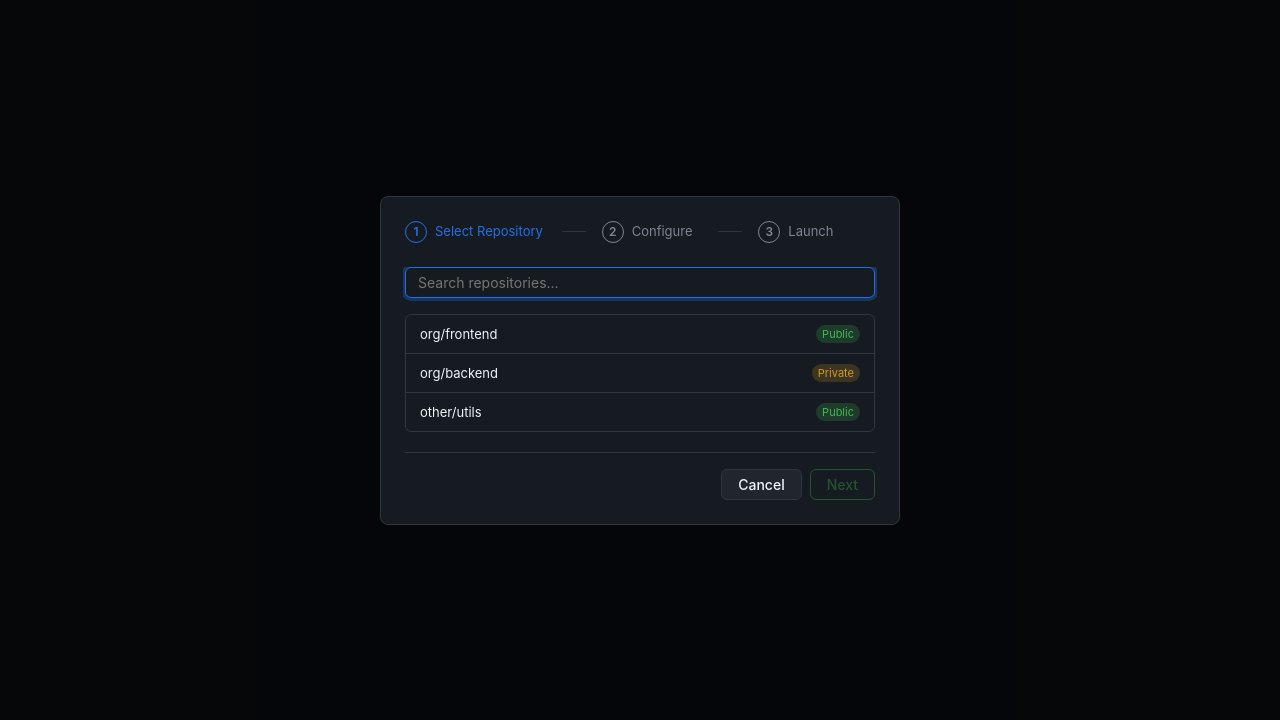
Test case: NewRunnerWizard › disables Container mode when Docker isn't available
The image size is (1280, 720).
Step 1. Click the text "org/frontend" → (459, 334), box [420,326,498,342]
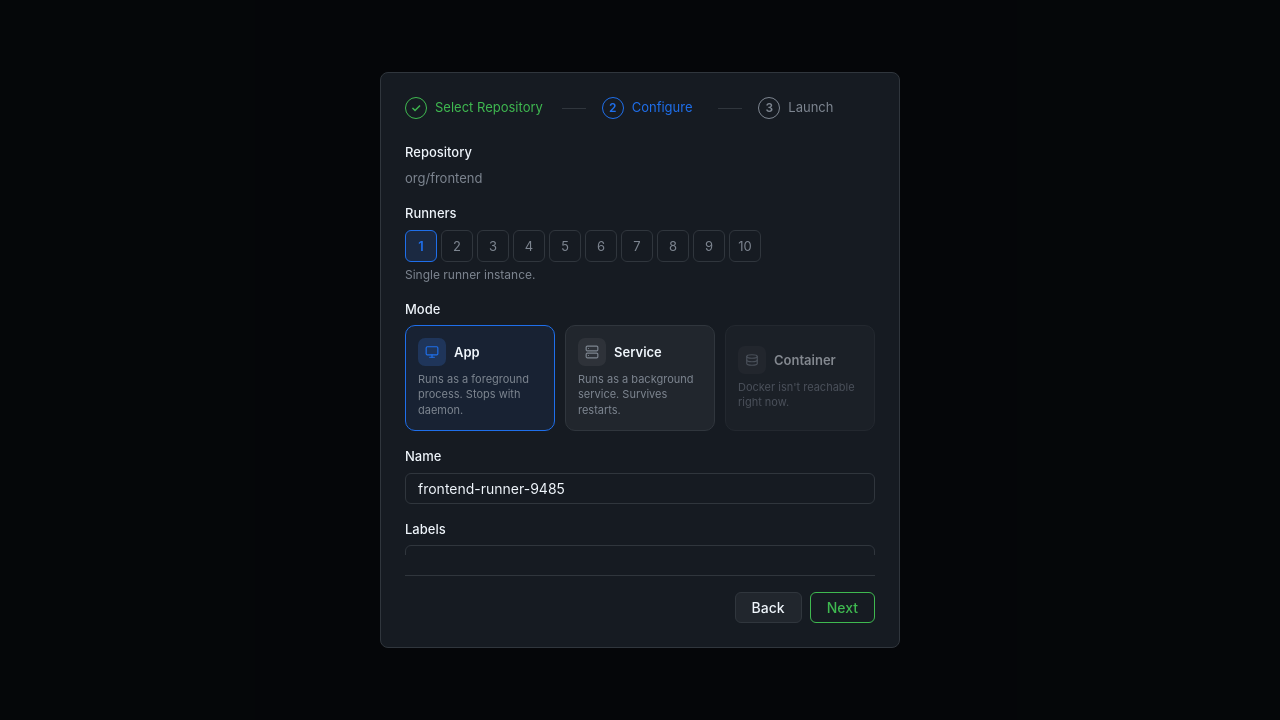
Check: the text "Container" is shown, box [774,352,836,368]
Check: the button "Container" is disabled, box [725,325,875,431]
